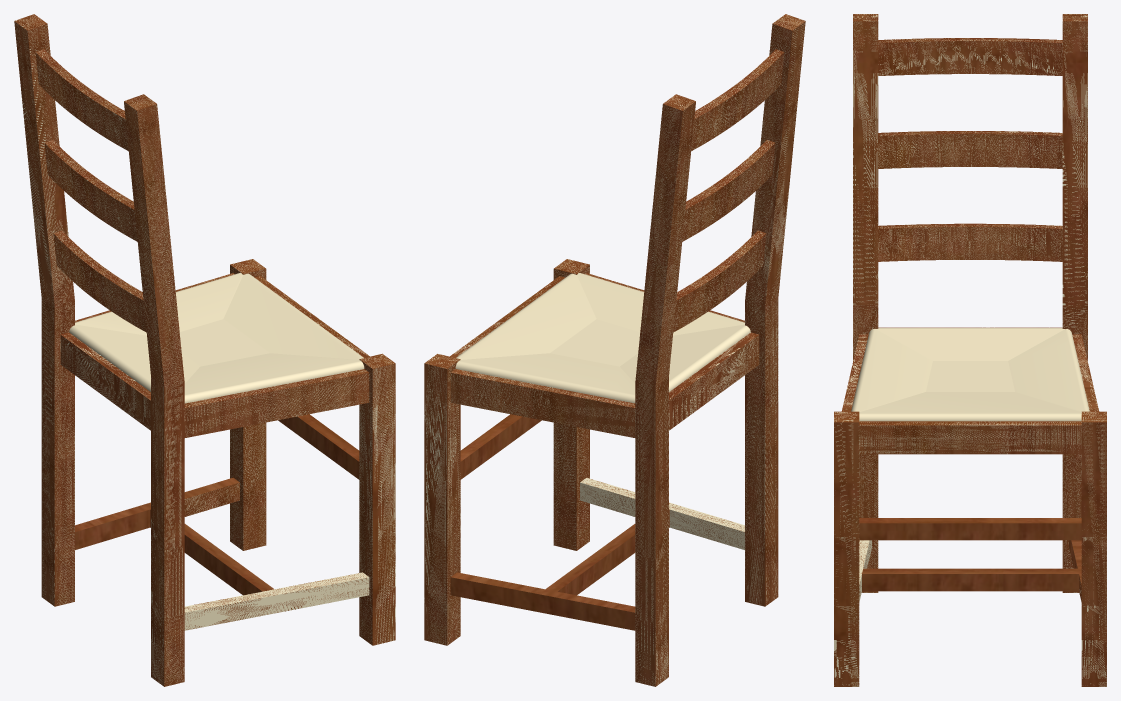
3 renders of one model, left to right at view 1: azimuth 30°, elevation 25°; view 2: azimuth 150°, elevation 25°; view 3: azimuth 270°, elevation 25°, orthographic. The views are drawn at different scales.
Visible parts, largest first — view 1: chaise (×15); view 2: chaise (×14); view 3: chaise (×14).
Part boxes in pixels (<box>): chaise (×15): <box>14,14,395,686</box>; chaise (×14): <box>424,14,805,686</box>; chaise (×14): <box>834,14,1106,686</box>.
Size of the model in its own units: 17.02 by 16.93 by 38.26.
